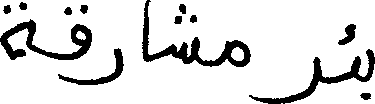ئ: (339, 22, 361, 89)
ا: (141, 0, 150, 62)
ب: (363, 46, 373, 100)
ة: (0, 0, 33, 60)
ر: (250, 51, 322, 102), (88, 26, 124, 85)
ش: (173, 1, 201, 65)
ق: (62, 3, 90, 71)
م: (224, 38, 250, 70)
